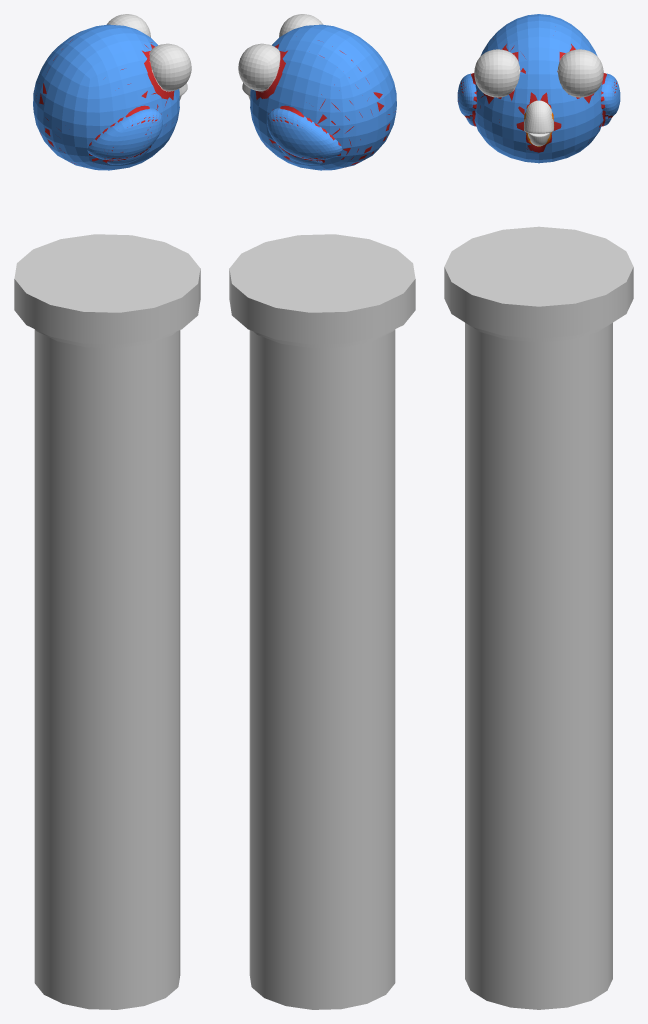
The model's file is flappybird.fbx.
3 renders of one model, left to right at view 1: azimuth 30°, elevation 25°; view 2: azimuth 150°, elevation 25°; view 3: azimuth 270°, elevation 25°, orthographic.
Visible parts, largest first — view 1: tube, bird, re; view 2: tube, bird, re; view 3: tube, bird, re.
Boxes of the visible parts, bbox=[...] form: tube: bbox=[14, 234, 200, 1009]; bird: bbox=[33, 14, 191, 170]; re: bbox=[36, 32, 174, 164]; tube: bbox=[229, 234, 415, 1009]; bird: bbox=[238, 14, 396, 170]; re: bbox=[255, 40, 395, 169]; tube: bbox=[444, 226, 633, 1009]; bird: bbox=[457, 14, 620, 163]; re: bbox=[458, 38, 616, 152].
Size of the model in its own units: 256 by 1427 by 256.
5 materials, 1 textured.
